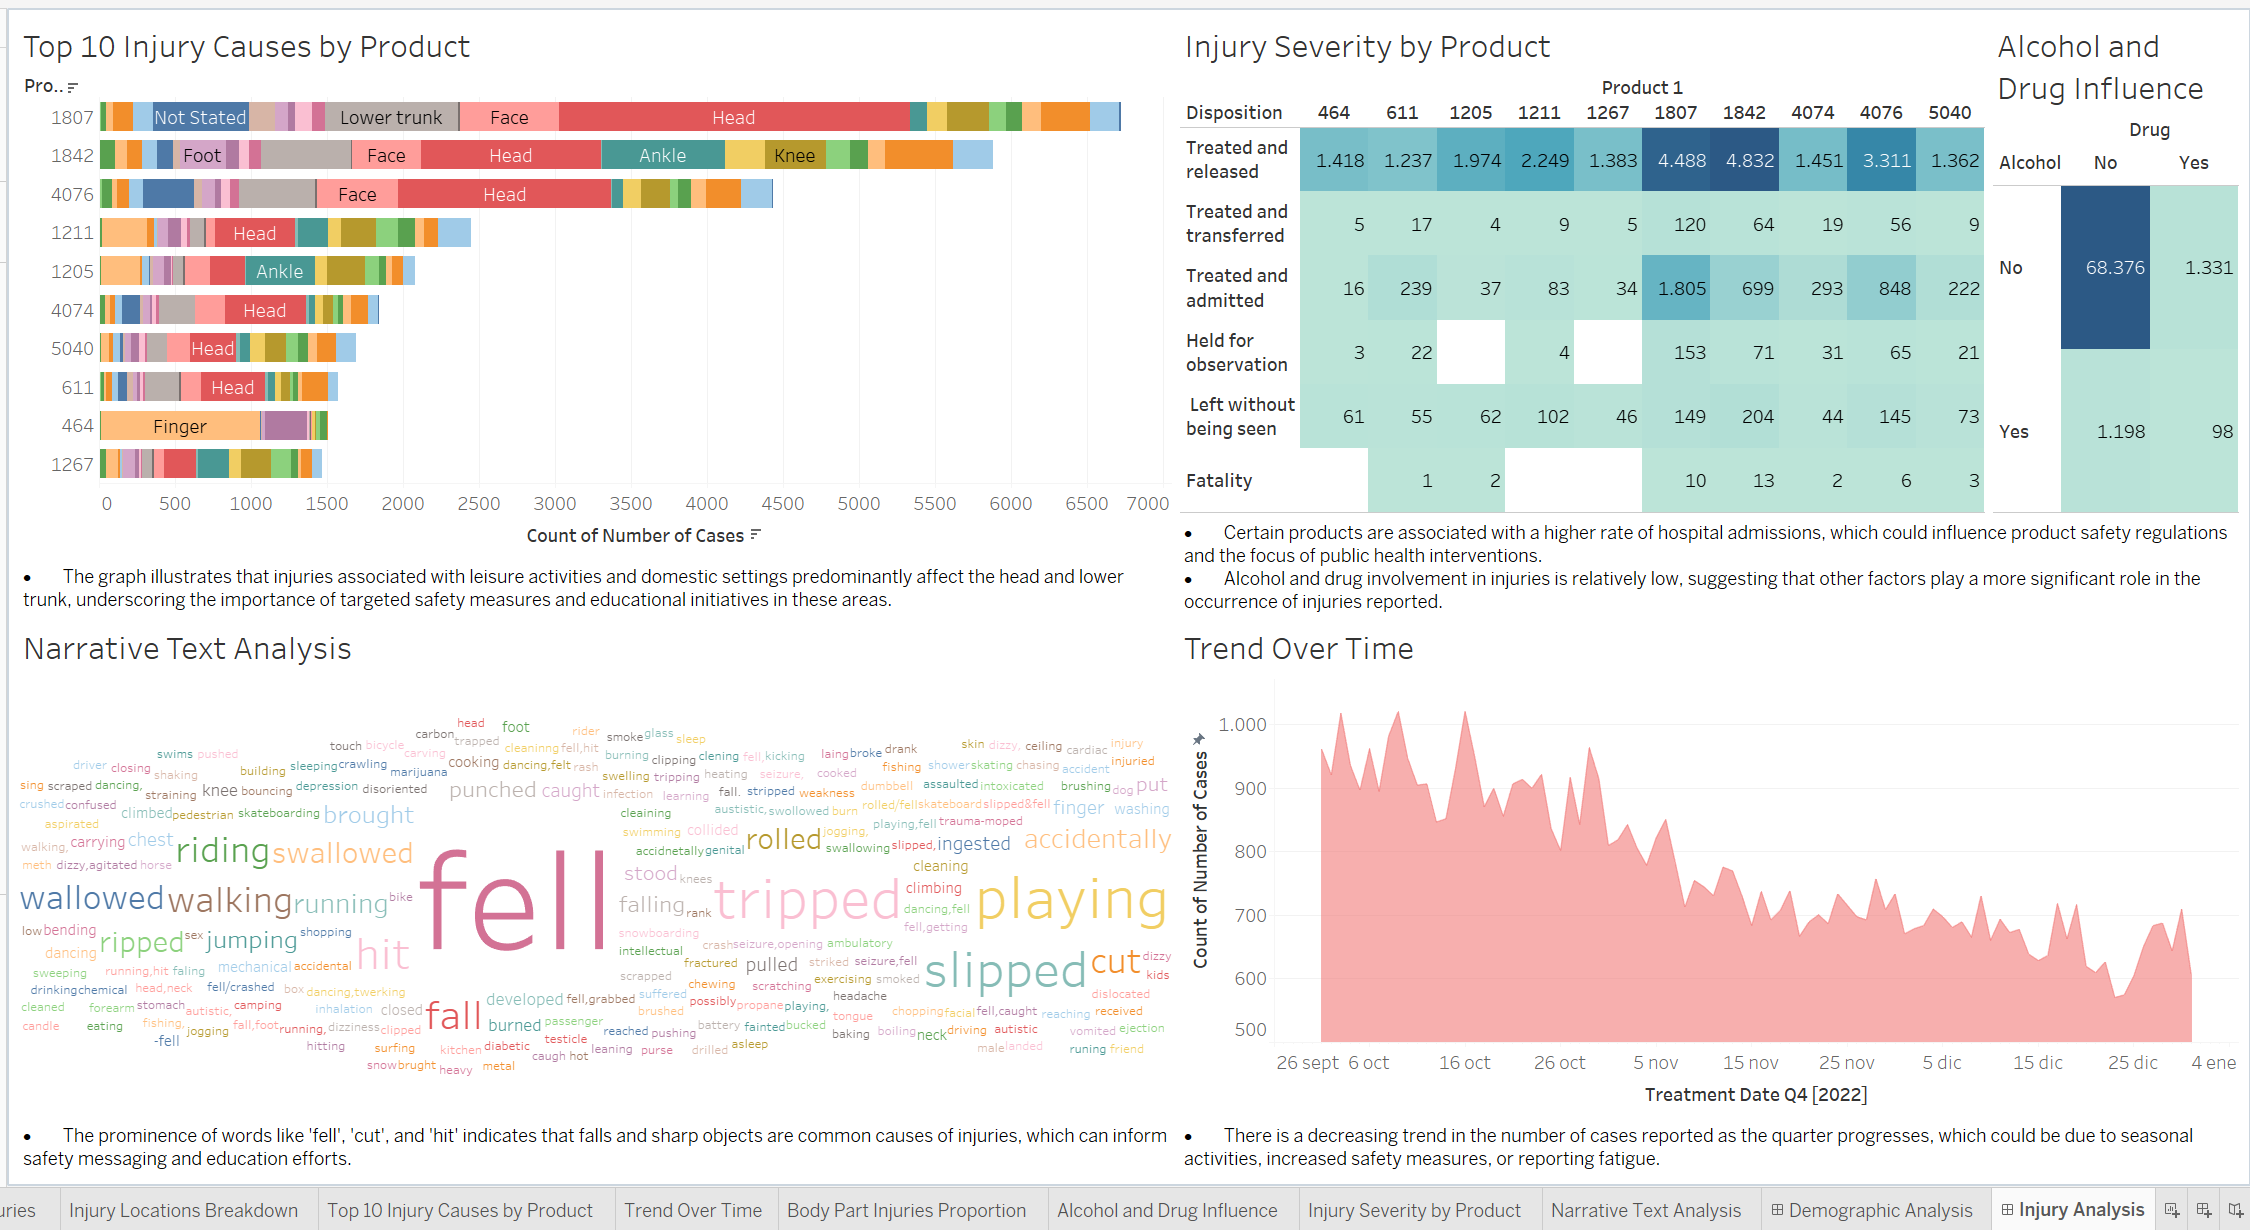

The page's visual inventory and layout, read from the dashboard file:
{"tool":"tableau","page":{"name":"Injury Analysis","canvas":[1000,1000],"units":"permille","ordinal":1},"visuals":[{"type":"worksheet","title":"Top 10 Injury Causes by Product","mark":"Automatic","rows":["Product_1"],"cols":["CPSC_Case_Number"],"box":[3.6,6.8,517.4,460.1]},{"type":"worksheet","title":"Injury Severity by Product","mark":"Square","rows":["Disposition"],"cols":["Product_1"],"box":[520.9,6.8,362.4,425.3]},{"type":"worksheet","title":"Alcohol and Drug Influence","mark":"Square","rows":["Alcohol"],"cols":["Drug"],"box":[883.3,6.8,113.1,425.3]},{"type":"text","box":[520.9,432.1,475.5,85.7]},{"type":"text","box":[3.6,466.9,517.4,50.9]},{"type":"worksheet","title":"Narrative Text Analysis","mark":"Text","box":[3.6,517.8,517.4,423.6]},{"type":"worksheet","title":"Trend Over Time","mark":"Area","rows":["CPSC_Case_Number"],"cols":["Treatment_Date"],"box":[520.9,517.8,475.5,423.6]},{"type":"text","box":[3.6,941.4,517.4,51.8]},{"type":"text","box":[520.9,941.4,475.5,51.8]}]}

Visuals, with their boxes on the dashboard's canvas, which has no fixed pixel size, in thousandths of its width and height (x1, y1, x2, y2). These are canvas units, not pixel positions in the 2250x1230 screenshot, which may show the page scaled, cropped or inside an application window:
"Top 10 Injury Causes by Product" worksheet: (x1=4, y1=7, x2=521, y2=467)
"Injury Severity by Product" worksheet (Square marks): (x1=521, y1=7, x2=883, y2=432)
"Alcohol and Drug Influence" worksheet (Square marks): (x1=883, y1=7, x2=996, y2=432)
text: (x1=521, y1=432, x2=996, y2=518)
text: (x1=4, y1=467, x2=521, y2=518)
"Narrative Text Analysis" worksheet (Text marks): (x1=4, y1=518, x2=521, y2=941)
"Trend Over Time" worksheet (Area marks): (x1=521, y1=518, x2=996, y2=941)
text: (x1=4, y1=941, x2=521, y2=993)
text: (x1=521, y1=941, x2=996, y2=993)
